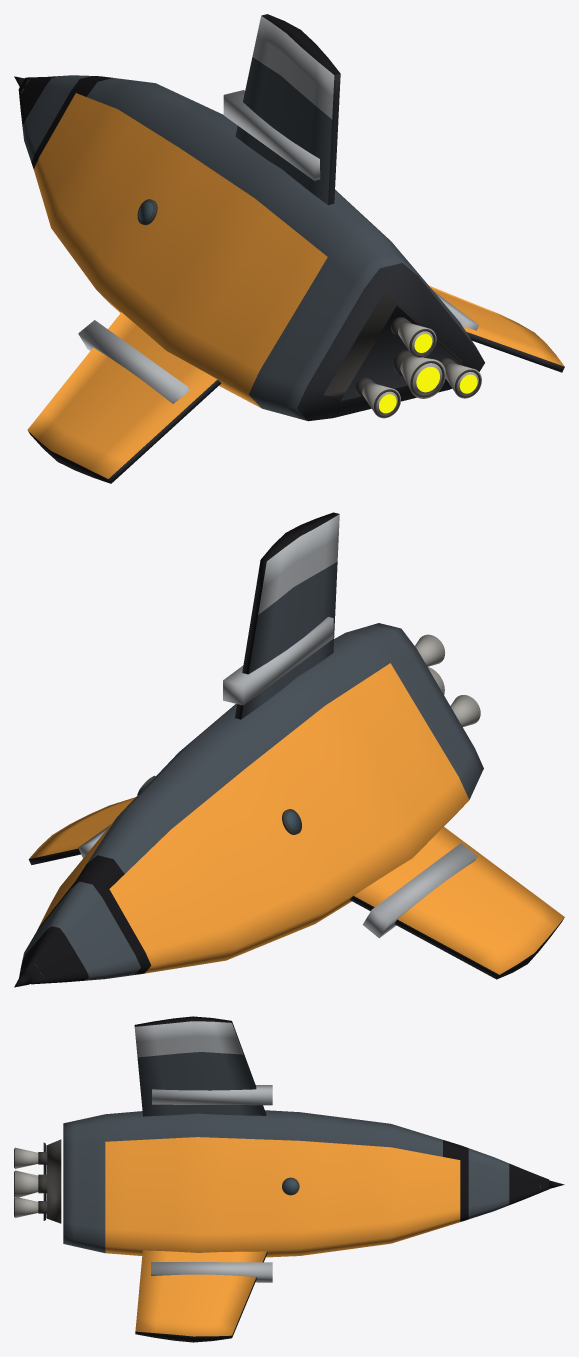
File: Ship_Standard_19.glb
3 renders of one model, top to bottom at view 1: azimuth 30°, elevation 25°; view 2: azimuth 150°, elevation 25°; view 3: azimuth 270°, elevation 25°, orthographic. The views are drawn at different scales.
Parts seen in each view (by area): view 1: Fuselage_RoundedTriangleTriFoldBody, Wing_LowerLeft_TriFoldCornerBladePaintedMesh, Wing_Dorsal_TriFoldCornerBladePaintedMesh, Nose_RoundedTriangleTaperedForwardSection, Wing_LowerRight_TriFoldCornerBladePaintedMesh, WingRootSocket_LowerLeft_IntegratedEmbeddedShoulder, EngineBlock_AftTriFoldTrimFrame, WingRootSocket_Dorsal_IntegratedEmbeddedShoulder, EngineBlock_AftTriangularIntegratedMountPlate, EngineEmitter, EngineBell_Center_BurnishedNozzle, EngineBell_LowerLeft_BurnishedNozzle (+2 smaller); view 2: Fuselage_RoundedTriangleTriFoldBody, Wing_LowerLeft_TriFoldCornerBladePaintedMesh, Wing_Dorsal_TriFoldCornerBladePaintedMesh, Nose_RoundedTriangleTaperedForwardSection, WingRootSocket_LowerLeft_IntegratedEmbeddedShoulder, WingRootSocket_Dorsal_IntegratedEmbeddedShoulder, Wing_LowerRight_TriFoldCornerBladePaintedMesh, EngineBell_LowerLeft_BurnishedNozzle, EngineBell_Dorsal_BurnishedNozzle; view 3: Fuselage_RoundedTriangleTriFoldBody, Wing_Dorsal_TriFoldCornerBladePaintedMesh, Wing_LowerRight_TriFoldCornerBladePaintedMesh, Nose_RoundedTriangleTaperedForwardSection, WingRootSocket_Dorsal_IntegratedEmbeddedShoulder, WingRootSocket_LowerRight_IntegratedEmbeddedShoulder, EngineBlock_AftTriangularIntegratedMountPlate, EngineBell_Center_BurnishedNozzle.
Part boxes in pixels (x1,y1,x2,y2): Fuselage_RoundedTriangleTriFoldBody: [34, 76, 484, 421]; Wing_LowerLeft_TriFoldCornerBladePaintedMesh: [27, 312, 221, 483]; Wing_Dorsal_TriFoldCornerBladePaintedMesh: [235, 14, 340, 205]; Nose_RoundedTriangleTaperedForwardSection: [18, 75, 98, 169]; Wing_LowerRight_TriFoldCornerBladePaintedMesh: [429, 285, 564, 372]; WingRootSocket_LowerLeft_IntegratedEmbeddedShoulder: [78, 320, 189, 403]; EngineBlock_AftTriFoldTrimFrame: [341, 305, 465, 401]; WingRootSocket_Dorsal_IntegratedEmbeddedShoulder: [223, 90, 320, 180]; EngineBlock_AftTriangularIntegratedMountPlate: [323, 292, 462, 397]; EngineEmitter: [379, 334, 477, 413]; EngineBell_Center_BurnishedNozzle: [400, 356, 445, 398]; EngineBell_LowerLeft_BurnishedNozzle: [362, 382, 400, 418]; Fuselage_RoundedTriangleTriFoldBody: [37, 623, 483, 973]; Wing_LowerLeft_TriFoldCornerBladePaintedMesh: [349, 827, 564, 979]; Wing_Dorsal_TriFoldCornerBladePaintedMesh: [235, 512, 339, 719]; Nose_RoundedTriangleTaperedForwardSection: [19, 872, 151, 984]; WingRootSocket_LowerLeft_IntegratedEmbeddedShoulder: [362, 843, 477, 938]; WingRootSocket_Dorsal_IntegratedEmbeddedShoulder: [223, 617, 333, 705]; Wing_LowerRight_TriFoldCornerBladePaintedMesh: [28, 797, 135, 864]; EngineBell_LowerLeft_BurnishedNozzle: [450, 695, 480, 726]; EngineBell_Dorsal_BurnishedNozzle: [415, 634, 444, 666]; Fuselage_RoundedTriangleTriFoldBody: [63, 1110, 460, 1257]; Wing_Dorsal_TriFoldCornerBladePaintedMesh: [134, 1016, 266, 1116]; Wing_LowerRight_TriFoldCornerBladePaintedMesh: [135, 1250, 267, 1342]; Nose_RoundedTriangleTaperedForwardSection: [460, 1145, 549, 1221]; WingRootSocket_Dorsal_IntegratedEmbeddedShoulder: [152, 1085, 272, 1105]; WingRootSocket_LowerRight_IntegratedEmbeddedShoulder: [151, 1262, 272, 1282]; EngineBlock_AftTriangularIntegratedMountPlate: [46, 1139, 61, 1223]; EngineBell_Center_BurnishedNozzle: [15, 1170, 38, 1197].
Size of the model in its own units: 4.97 by 3.66 by 7.37.
